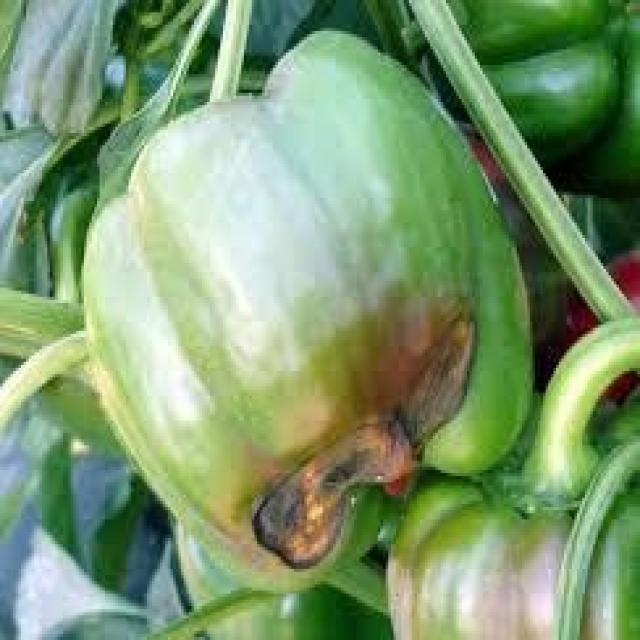Wet Waste: (50, 26, 542, 597)
